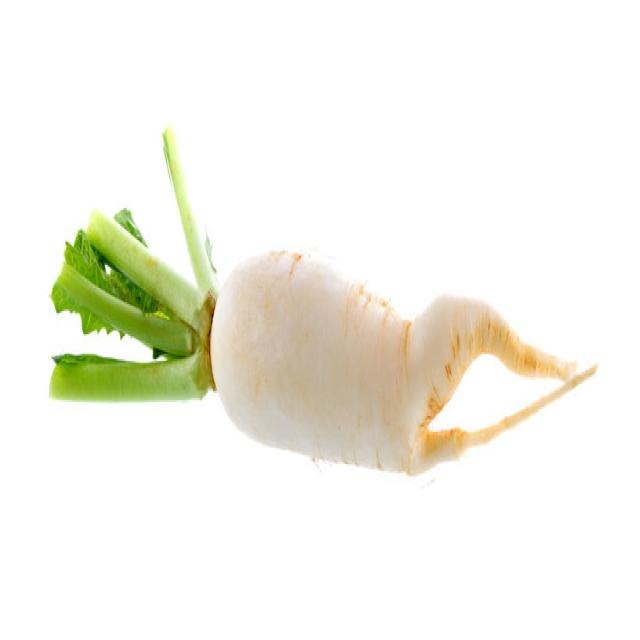Carrot: (162, 122, 218, 298), (49, 346, 212, 402)
Radish: (48, 122, 598, 476)
Spinach: (48, 122, 219, 402)
